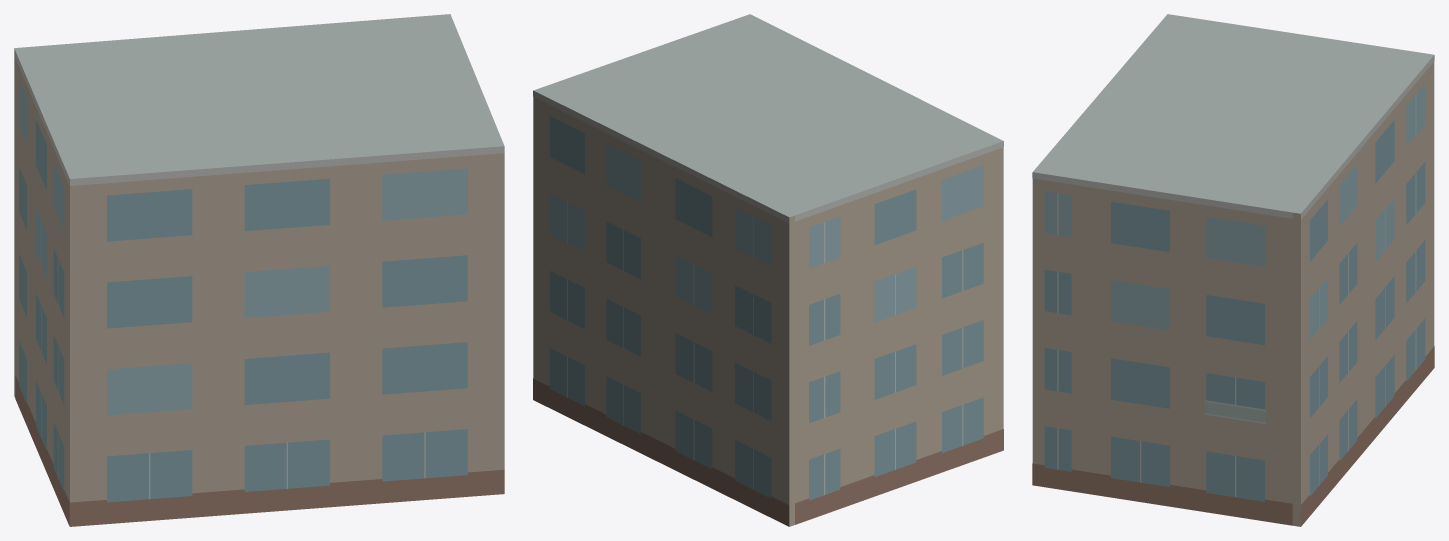
File: survey-upis-32707052.glb
3 views of the same model, side by side, from view 1: azimuth 30°, elevation 25°; view 2: azimuth 150°, elevation 25°; view 3: azimuth 270°, elevation 25° (orthographic). The views are drawn at different scales.
Parts seen in each view (by area): view 1: survey-upis-32707052.tmp; view 2: survey-upis-32707052.tmp; view 3: survey-upis-32707052.tmp.
Part boxes in pixels (x1,y1,x2,y2): survey-upis-32707052.tmp: [14, 14, 504, 526]; survey-upis-32707052.tmp: [533, 14, 1003, 526]; survey-upis-32707052.tmp: [1032, 14, 1434, 526].
Size of the model in its own units: 16.7 by 12.2 by 14.2.
